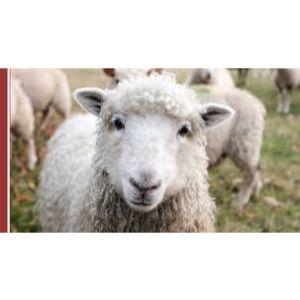sheep: (72, 70, 233, 231)
